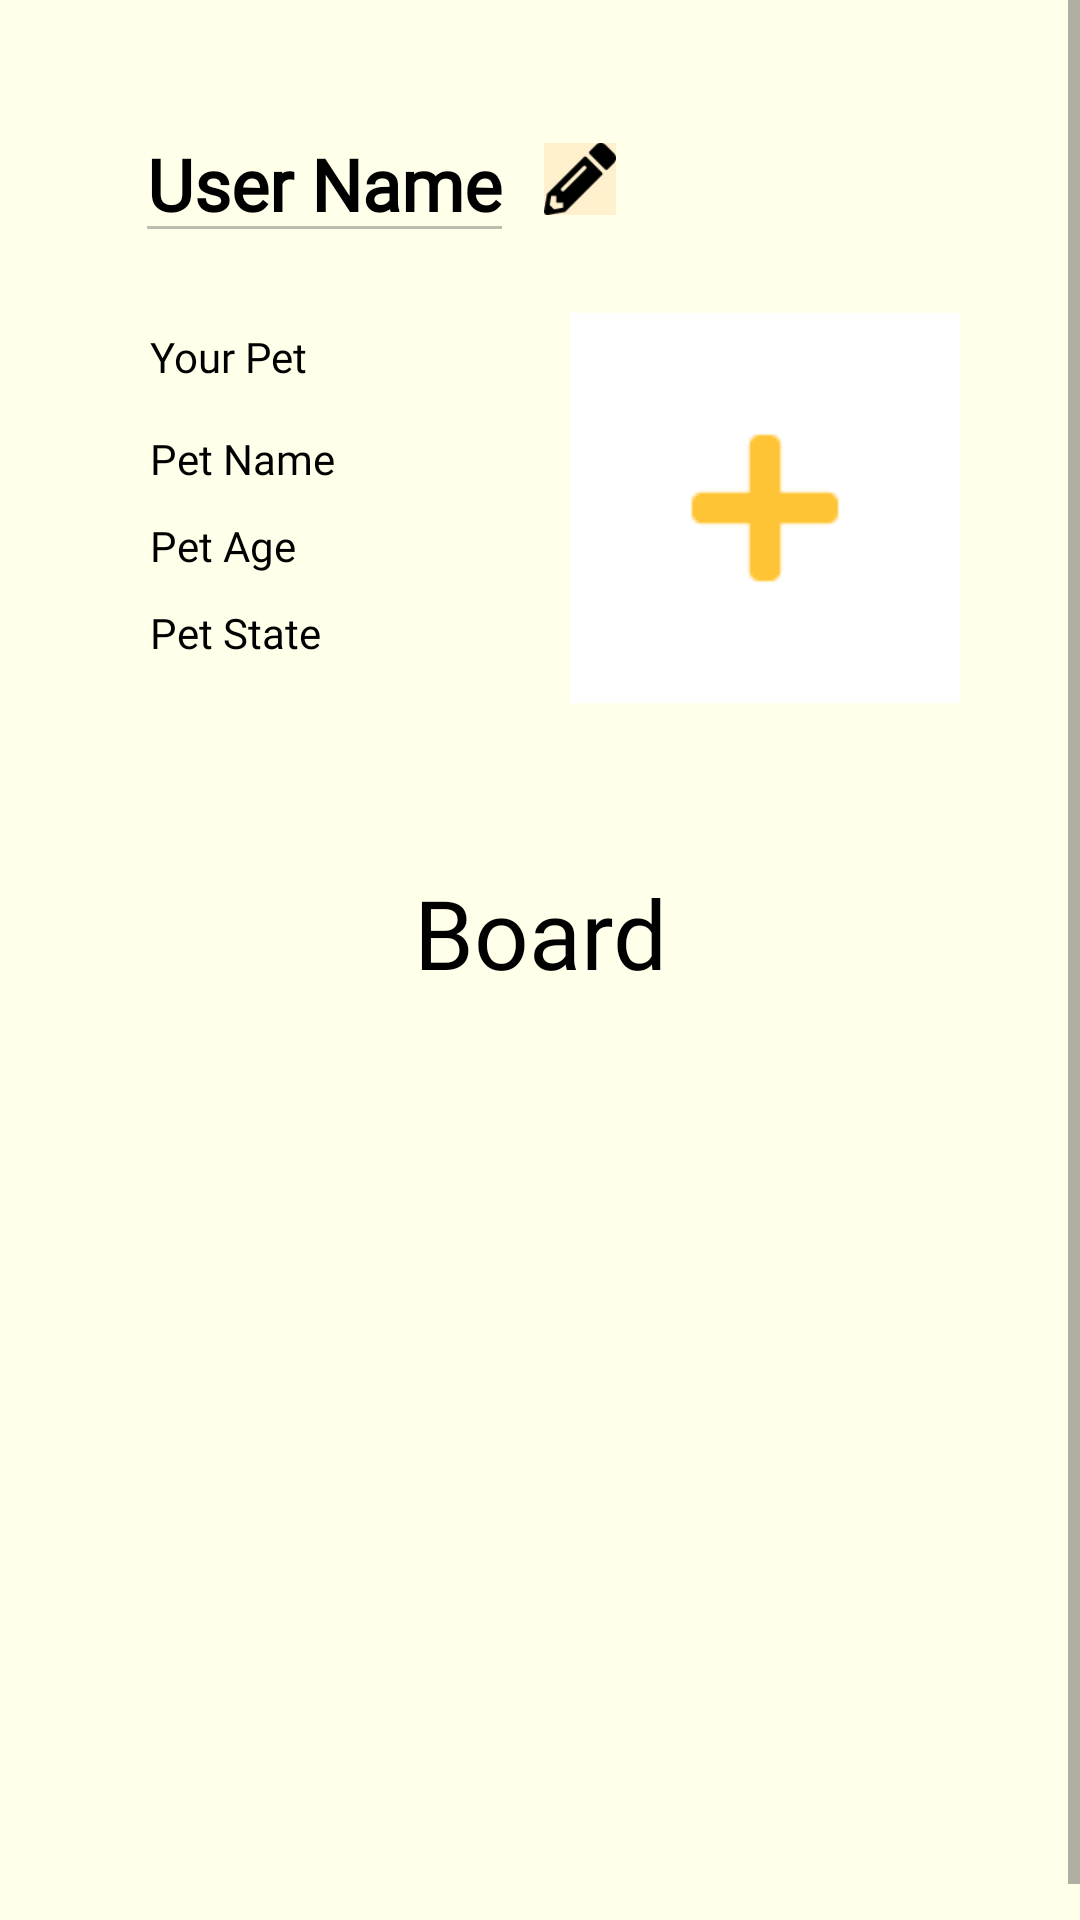

Where icons sit on this 1080x1920 app screen, as Rect(x1, y1, x2, y2):
edit: Rect(544, 143, 616, 215)
